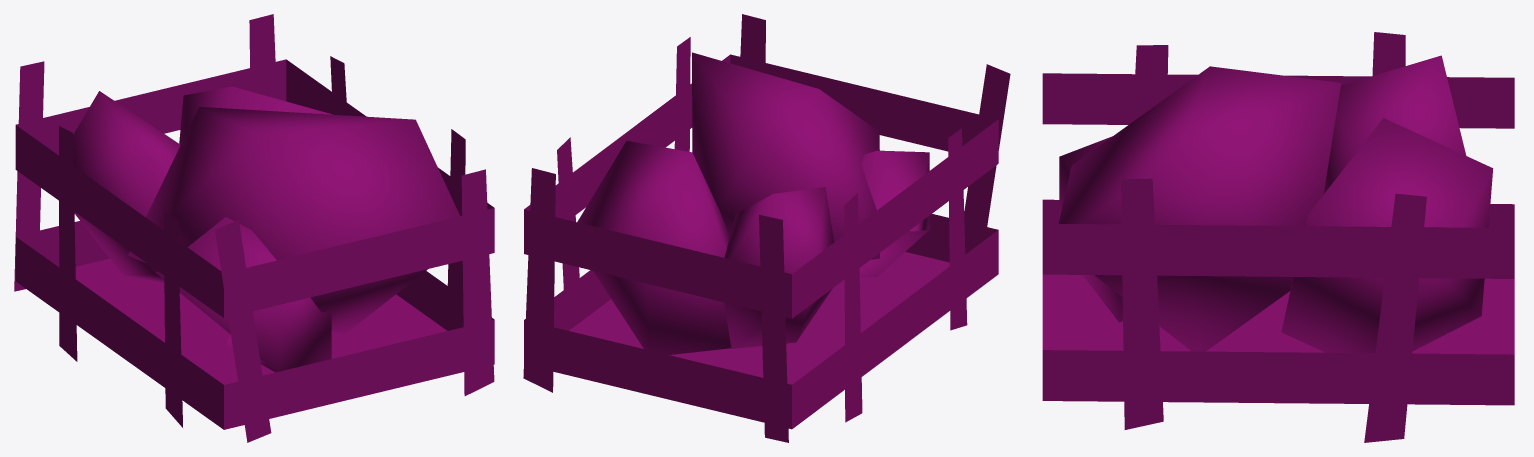
File: orebox.obj
3 renders of one model, left to right at view 1: azimuth 30°, elevation 25°; view 2: azimuth 150°, elevation 25°; view 3: azimuth 270°, elevation 25°, orthographic. The views are drawn at different scales.
Visible parts, largest first — view 1: Sphere02; view 2: Sphere02; view 3: Sphere02.
Boxes of the visible parts, x1,y1,x2,y2 form: Sphere02: (14,14,494,442); Sphere02: (523,14,1010,442); Sphere02: (1042,32,1514,442).
Bounding box in the file's own units: 4.74 × 3.95 × 6.08.
